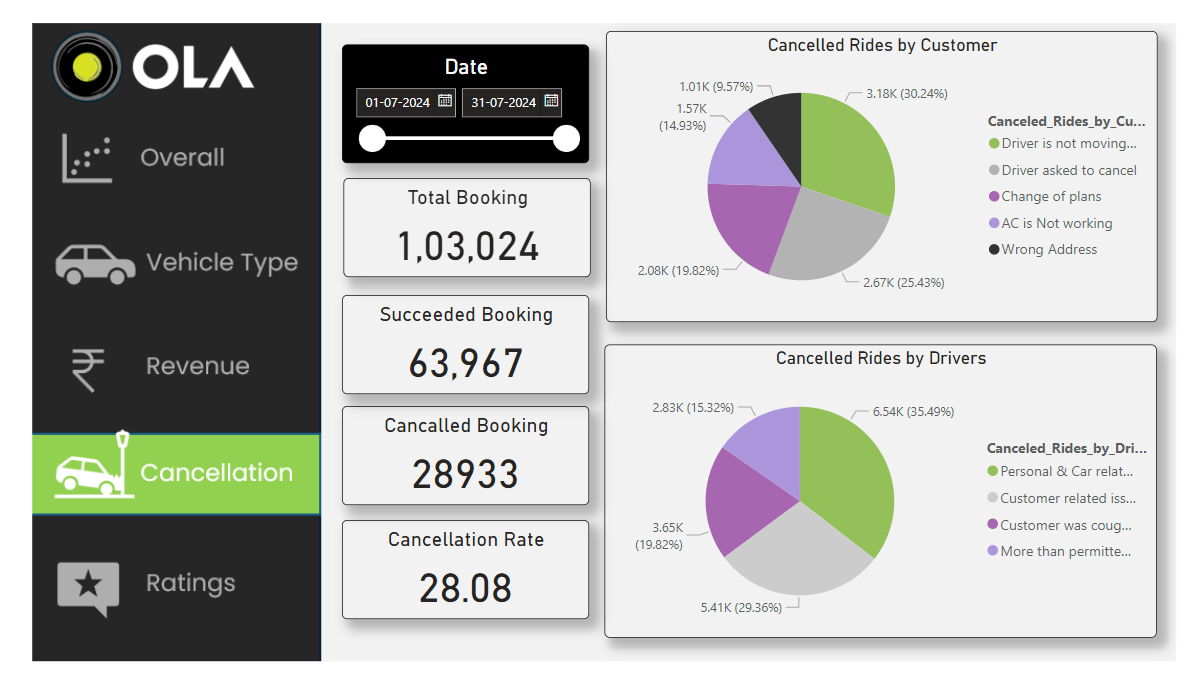

Layout of this report page (visuals, bound fields, positions):
{"tool":"powerbi","page":{"name":"Cancellation","canvas":[1280,720],"ordinal":3},"visuals":[{"type":"actionButton","box":[97,241.8,268.8,79.5],"z":0},{"type":"actionButton","box":[93.8,338.8,278.4,79.5],"z":1000},{"type":"actionButton","box":[97,447,278.4,79.5],"z":2000},{"type":"actionButton","box":[93.8,550.4,278.4,79.5],"z":3000},{"type":"actionButton","box":[90.7,147.9,278.4,79.5],"z":4000},{"type":"pieChart","title":"Cancelled Rides by Customer","fields":{"Category":["Bookings - July.Canceled_Rides_by_Customer"],"Y":["CountNonNull(Bookings - July.Canceled_Rides_by_Customer)"]},"box":[641.3,60.3,527,277.8],"z":5000},{"type":"pieChart","title":"Cancelled Rides by Drivers","fields":{"Category":["Bookings - July.Canceled_Rides_by_Driver"],"Y":["CountNonNull(Bookings - July.Canceled_Rides_by_Driver)"]},"box":[640.6,359.1,527.2,279.7],"z":6000},{"type":"slicer","title":"Date","fields":{"Values":["Bookings - July.Date"]},"box":[389.3,73.7,236.2,113.4],"z":7000},{"type":"cardVisual","title":"Succeeded Booking ","fields":{"Data":["Count(Bookings - July.Booking_ID)"]},"box":[389.3,311.8,236.2,94.5],"z":8000},{"type":"cardVisual","title":"Total Booking ","fields":{"Data":["Count(Bookings - July.Booking_ID)"]},"box":[391.2,200.3,236.2,94.5],"z":9000},{"type":"cardVisual","title":"Cancalled Booking ","fields":{"Data":["Count(July.Booking_ID)"]},"box":[389.3,417.6,236.2,94.5],"z":10000},{"type":"cardVisual","title":"Cancellation Rate","fields":{"Data":["July.Canceled Percentage"]},"box":[389.3,527.2,236.2,94.5],"z":11000}]}

Visuals, with their boxes in screenshot pixels (x1, y1, x2, y2), scaled from the page's 1280x720 canvas onto the 1196x674 screenshot:
actionButton: rect(91, 226, 342, 301)
actionButton: rect(88, 317, 348, 392)
actionButton: rect(91, 418, 351, 493)
actionButton: rect(88, 515, 348, 590)
actionButton: rect(85, 138, 345, 213)
"Cancelled Rides by Customer" pieChart: rect(599, 56, 1092, 316)
"Cancelled Rides by Drivers" pieChart: rect(599, 336, 1091, 598)
"Date" slicer: rect(364, 69, 584, 175)
"Succeeded Booking " cardVisual: rect(364, 292, 584, 380)
"Total Booking " cardVisual: rect(366, 188, 586, 276)
"Cancalled Booking " cardVisual: rect(364, 391, 584, 479)
"Cancellation Rate" cardVisual: rect(364, 494, 584, 582)
